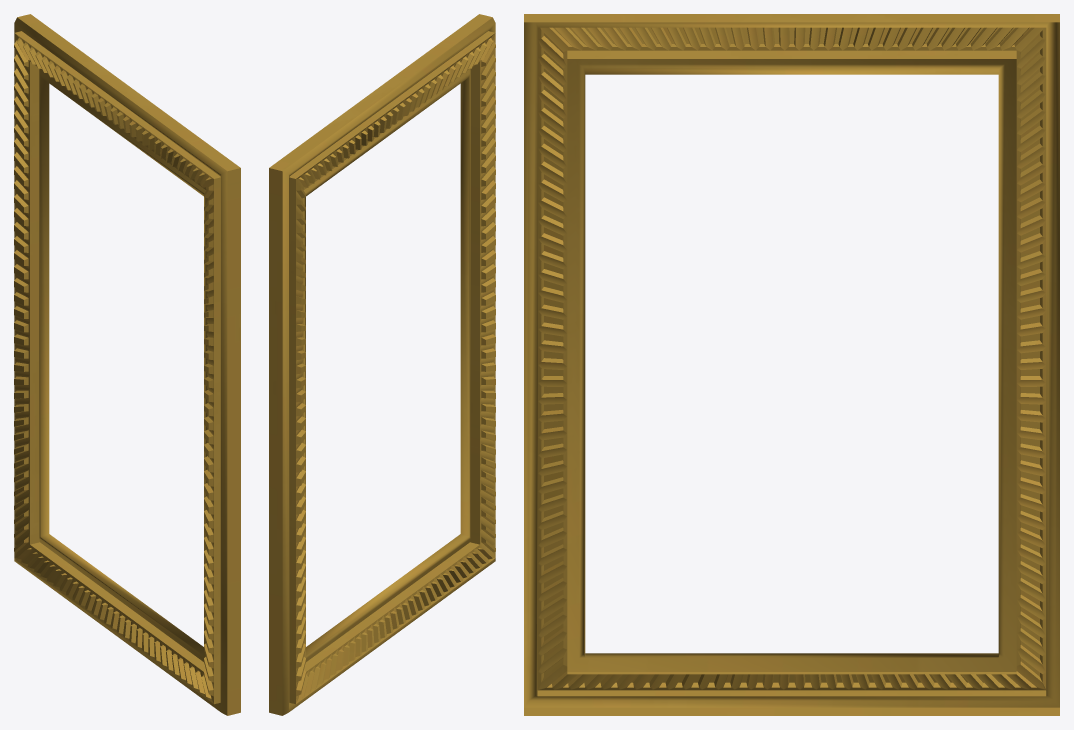
Rendered from picture-frame.glb.
3 renders of one model, left to right at view 1: azimuth 30°, elevation 25°; view 2: azimuth 150°, elevation 25°; view 3: azimuth 270°, elevation 25°, orthographic. The views are drawn at different scales.
Visible parts, largest first — view 1: pCube6, pCube5; view 2: pCube6, pCube5; view 3: pCube5, pCube6.
Boxes of the visible parts, left/top/right/bottom form: pCube6: left=14, top=31, right=220, bottom=704; pCube5: left=14, top=14, right=240, bottom=715; pCube6: left=289, top=31, right=495, bottom=704; pCube5: left=269, top=14, right=495, bottom=715; pCube5: left=524, top=14, right=1059, bottom=715; pCube6: left=537, top=27, right=1046, bottom=696.
Bounding box in the file's own units: 0.0468 × 1 × 0.7.
1 material, 1 textured.
